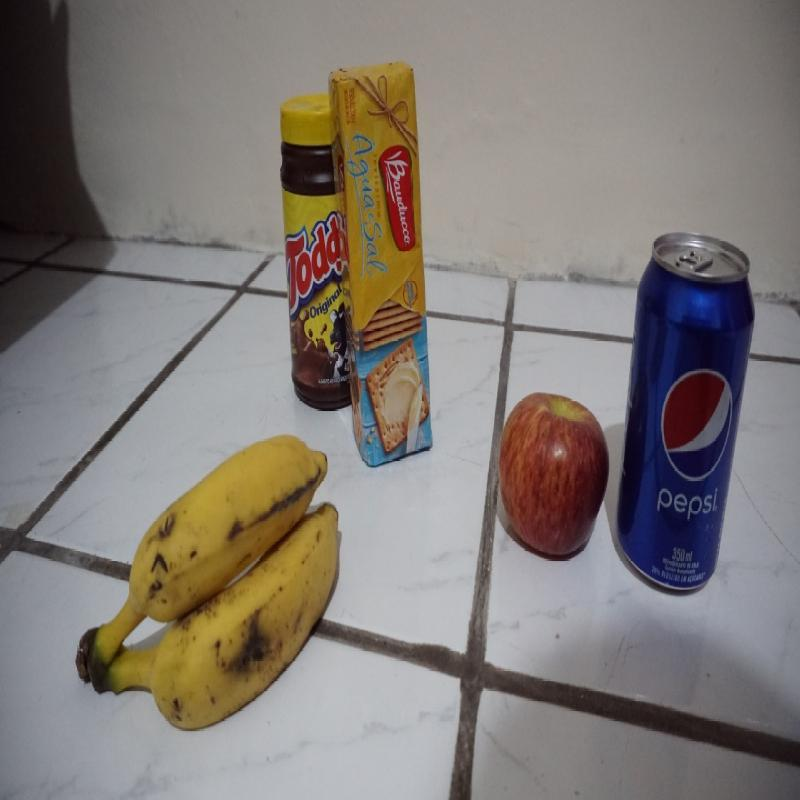Apple: (498, 391, 610, 561)
Banana: (74, 433, 340, 732)
Chocolate Powder: (279, 88, 352, 417)
Cracker: (327, 58, 434, 470)
Soda can: (615, 230, 757, 596)
